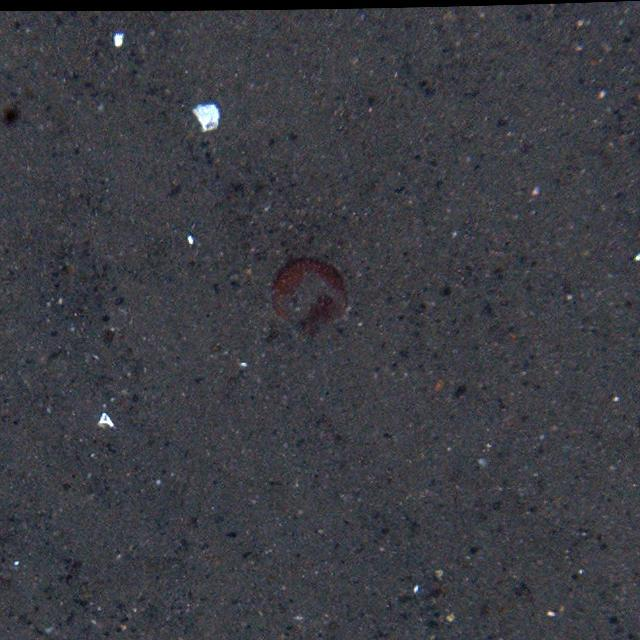scallop: (270, 248, 349, 338)
